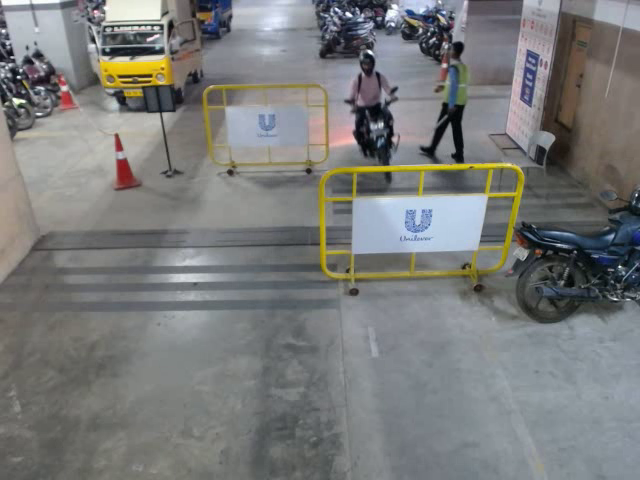with_helmet: (359, 48, 377, 79)
